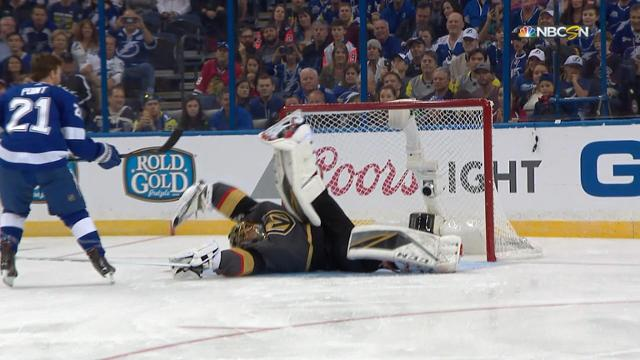geico: (574, 135, 640, 199)
